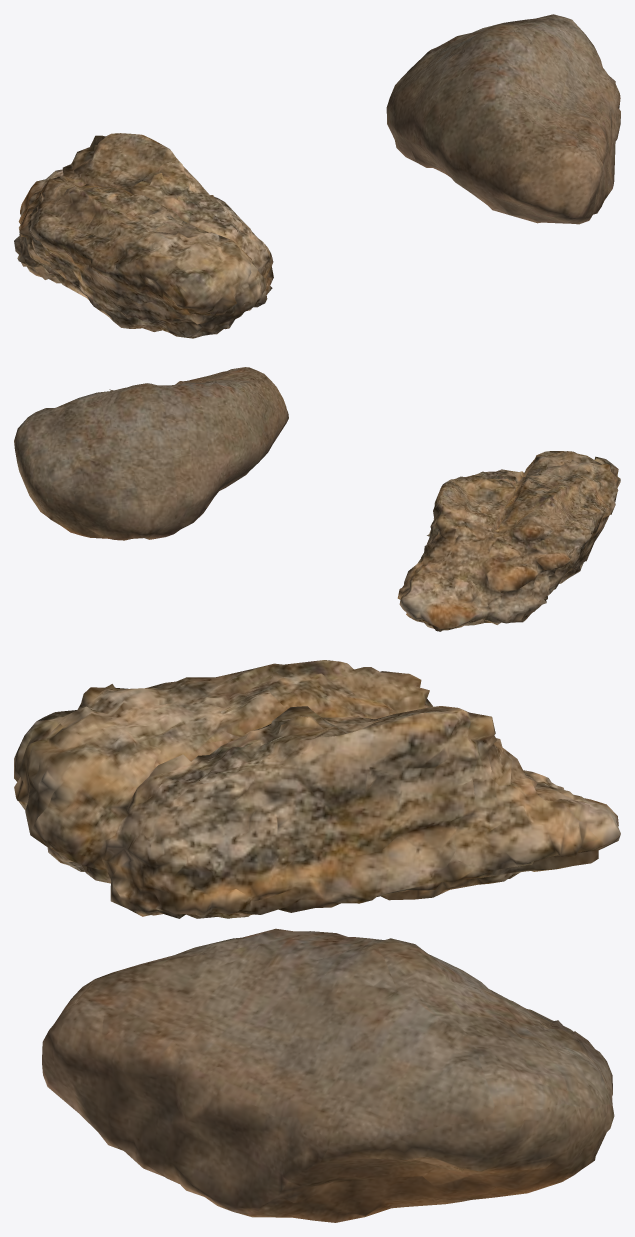
File: lg-p-boulders2.glb
The picture shows the model from 3 angles, top to bottom: view 1: azimuth 30°, elevation 25°; view 2: azimuth 150°, elevation 25°; view 3: azimuth 270°, elevation 25°; orthographic projection. The views are drawn at different scales.
Parts seen in each view (by area): view 1: namaqualand_rocks_01_a, namaqualand_rocks_01_b; view 2: namaqualand_rocks_01_a, namaqualand_rocks_01_b; view 3: namaqualand_rocks_01_a, namaqualand_rocks_01_b.
Boxes of the visible parts, box(x1,y1,x2,y2) form: namaqualand_rocks_01_a: box(386, 14, 620, 224); namaqualand_rocks_01_b: box(14, 133, 273, 338); namaqualand_rocks_01_a: box(14, 367, 288, 540); namaqualand_rocks_01_b: box(397, 451, 620, 631); namaqualand_rocks_01_a: box(42, 928, 614, 1222); namaqualand_rocks_01_b: box(14, 660, 620, 918).
Bounding box in the file's own units: 1.06 × 0.2512 × 0.5838.
1 material, 1 textured.
